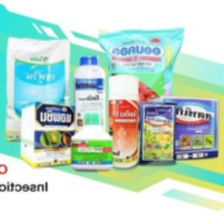insecticide: (96, 23, 188, 142), (2, 34, 74, 143), (154, 93, 221, 162), (16, 99, 79, 170), (70, 52, 110, 157), (106, 71, 142, 170), (135, 98, 181, 168), (67, 109, 116, 174)
